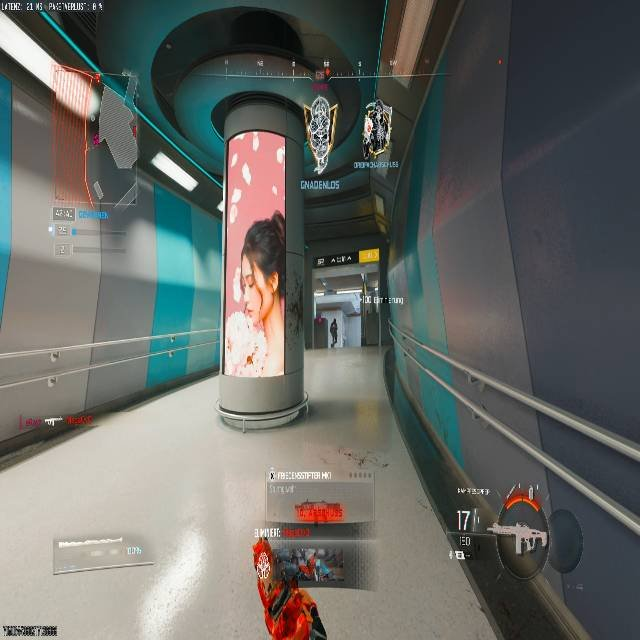player: (330, 319, 339, 347)
